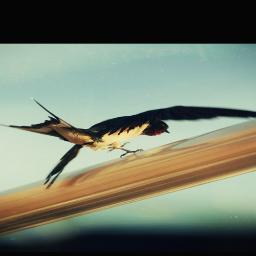Swallow: (0, 97, 256, 189)
